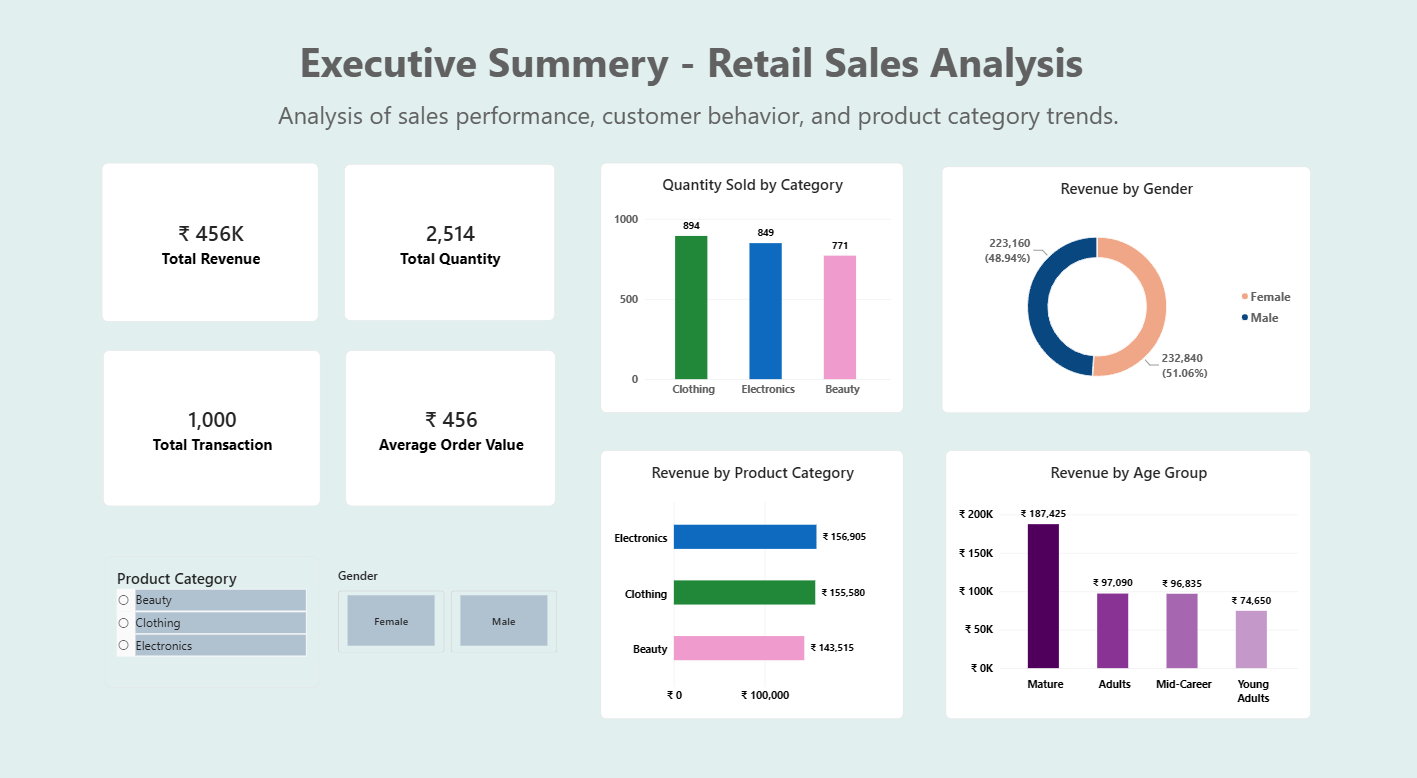

The page's visual inventory and layout, read from the dashboard file:
{"tool":"powerbi","page":{"name":"Executive Summary ","canvas":[1920,1080],"ordinal":0},"visuals":[{"type":"cardVisual","fields":{"Data":["retail_sales_dataset.Total Revenue"]},"box":[164.6,252.1,289.6,212.5],"z":0},{"type":"cardVisual","fields":{"Data":["retail_sales_dataset.Total Quantity"]},"box":[489.1,253.2,281.3,209.9],"z":1},{"type":"cardVisual","fields":{"Data":["retail_sales_dataset.Total Transaction"]},"box":[166,502,290,208],"z":2},{"type":"cardVisual","fields":{"Data":["retail_sales_dataset.Average Order Value"]},"box":[490,502,280,208],"z":3},{"type":"clusteredBarChart","title":"Revenue by Product Category","fields":{"Category":["retail_sales_dataset.Product Category"],"Y":["retail_sales_dataset.Total Revenue"]},"box":[829.2,635.4,404.2,358.3],"z":4},{"type":"columnChart","title":"Quantity Sold by Category","fields":{"Category":["retail_sales_dataset.Product Category"],"Y":["retail_sales_dataset.Total Quantity"]},"box":[829.2,252.1,404.2,333.3],"z":5},{"type":"donutChart","title":"Revenue by Gender","fields":{"Category":["retail_sales_dataset.Gender"],"Y":["retail_sales_dataset.Total Revenue"]},"box":[1285.4,256.2,491.7,329.2],"z":6},{"type":"listSlicer","fields":{"Values":["retail_sales_dataset.Product Category"]},"box":[168.6,776.4,287.2,175.3],"z":9},{"type":"clusteredColumnChart","title":"Revenue by Age Group","fields":{"Category":["retail_sales_dataset.Age Group"],"Y":["retail_sales_dataset.Total Revenue"]},"box":[1289.6,635.4,487.5,358.3],"z":11},{"type":"textbox","box":[427.5,80,1110,85],"z":12},{"type":"textbox","box":[377.1,164.6,1175,72.9],"z":13},{"type":"advancedSlicerVisual","fields":{"Values":["retail_sales_dataset.Gender"]},"box":[480,790,292.5,115],"z":14}]}

Visuals, with their boxes in screenshot pixels (x1, y1, x2, y2), scaled from the page's 1920x1080 canvas onto the 1417x778 screenshot:
cardVisual - retail_sales_dataset.Total Revenue: (x1=121, y1=182, x2=335, y2=335)
cardVisual - retail_sales_dataset.Total Quantity: (x1=361, y1=182, x2=569, y2=334)
cardVisual - retail_sales_dataset.Total Transaction: (x1=123, y1=362, x2=337, y2=511)
cardVisual - retail_sales_dataset.Average Order Value: (x1=362, y1=362, x2=568, y2=511)
"Revenue by Product Category" clusteredBarChart: (x1=612, y1=458, x2=910, y2=716)
"Quantity Sold by Category" columnChart: (x1=612, y1=182, x2=910, y2=422)
"Revenue by Gender" donutChart: (x1=949, y1=185, x2=1312, y2=422)
listSlicer - retail_sales_dataset.Product Category: (x1=124, y1=559, x2=336, y2=686)
"Revenue by Age Group" clusteredColumnChart: (x1=952, y1=458, x2=1312, y2=716)
textbox: (x1=316, y1=58, x2=1135, y2=119)
textbox: (x1=278, y1=119, x2=1145, y2=171)
advancedSlicerVisual - retail_sales_dataset.Gender: (x1=354, y1=569, x2=570, y2=652)
